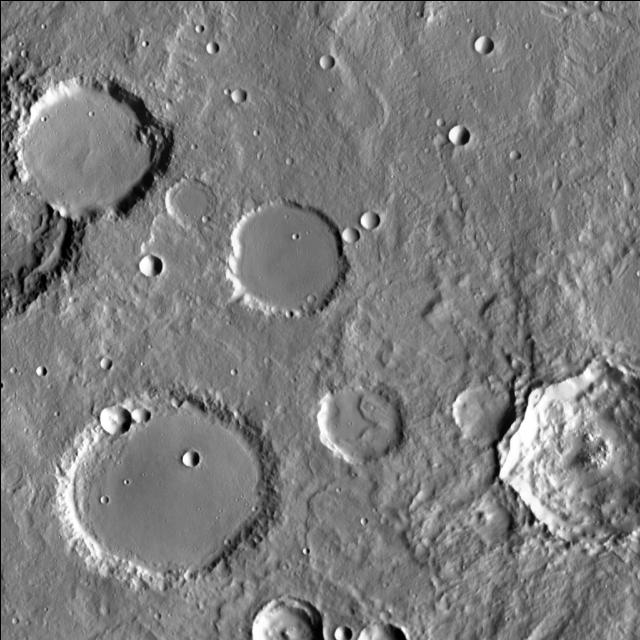crater: (55, 387, 270, 592), (500, 370, 640, 541), (16, 74, 166, 216), (220, 198, 344, 318), (566, 236, 640, 361), (313, 381, 401, 465), (449, 384, 512, 444), (246, 597, 320, 640), (160, 176, 212, 226), (95, 404, 126, 434), (140, 255, 162, 277), (450, 126, 470, 146), (474, 36, 494, 54), (359, 211, 378, 229), (127, 405, 145, 423), (346, 319, 364, 337), (177, 448, 194, 466), (340, 227, 358, 244), (232, 88, 248, 104), (332, 626, 350, 640), (320, 53, 334, 67), (434, 133, 448, 146), (205, 42, 218, 54), (98, 357, 110, 369), (572, 138, 584, 150), (550, 178, 561, 190), (378, 611, 390, 622), (35, 366, 45, 376), (510, 150, 520, 160), (166, 396, 176, 406), (378, 517, 388, 526), (14, 48, 24, 56), (94, 495, 102, 504), (435, 118, 444, 126), (258, 356, 267, 364), (194, 24, 202, 32), (301, 294, 309, 302), (280, 157, 288, 165), (509, 174, 517, 182), (359, 516, 367, 524), (300, 546, 308, 554), (13, 608, 21, 616), (96, 606, 104, 614), (144, 404, 152, 412), (196, 214, 203, 222), (229, 366, 236, 373), (553, 240, 560, 247), (156, 605, 163, 612), (294, 228, 300, 234), (638, 262, 640, 268)
